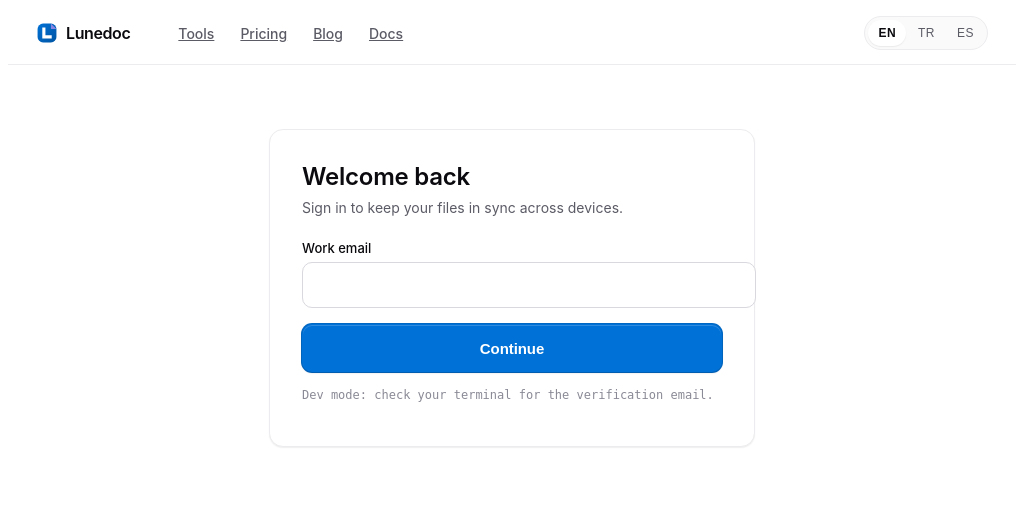
SigninPage › shows auth_network_error when startEmailAuth fails with a network error
Type "a@b.com" into the field labelled "Work email" at {"x": 529, "y": 285}, box [302,262,756,308]
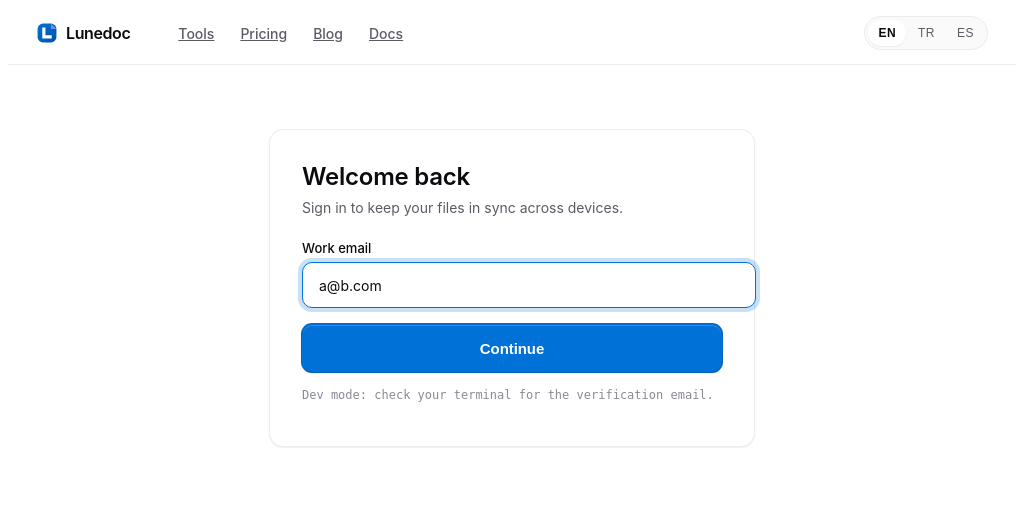
Click the button "Continue" at {"x": 512, "y": 348}, box [302,324,722,372]
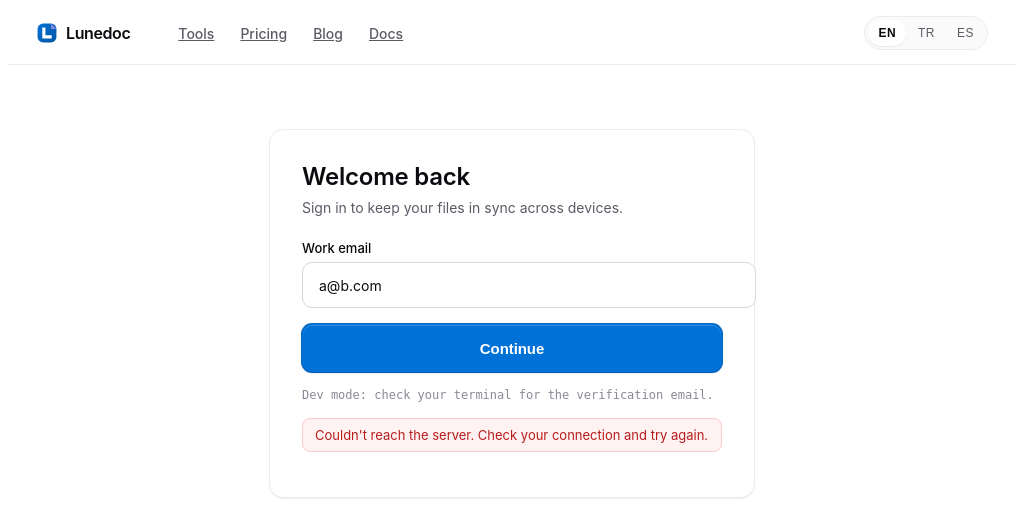
Expected: the message reads "Couldn't reach the server. Check your connection and try again.", [315,427,708,443]
